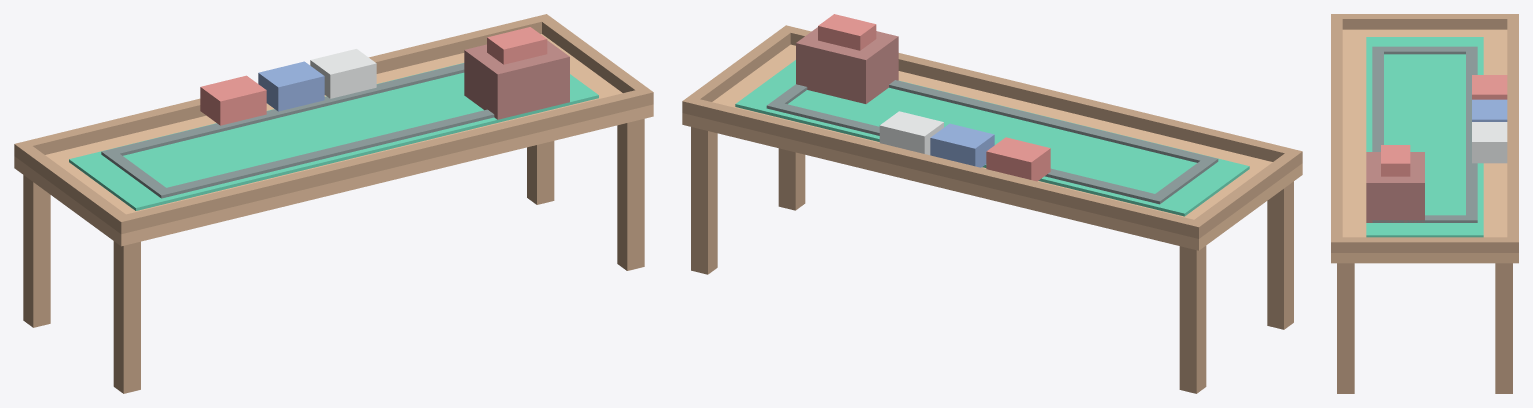
File: trainTable.glb
3 renders of one model, left to right at view 1: azimuth 30°, elevation 25°; view 2: azimuth 150°, elevation 25°; view 3: azimuth 270°, elevation 25°, orthographic. The views are drawn at different scales.
Visible parts, largest first — view 1: trainTable; view 2: trainTable; view 3: trainTable.
Part boxes in pixels (left/top/right/bottom): trainTable: left=14, top=14, right=653, bottom=393; trainTable: left=682, top=14, right=1302, bottom=393; trainTable: left=1331, top=14, right=1518, bottom=393.
Bounding box in the file's own units: 0.92 × 0.375 × 0.32.
